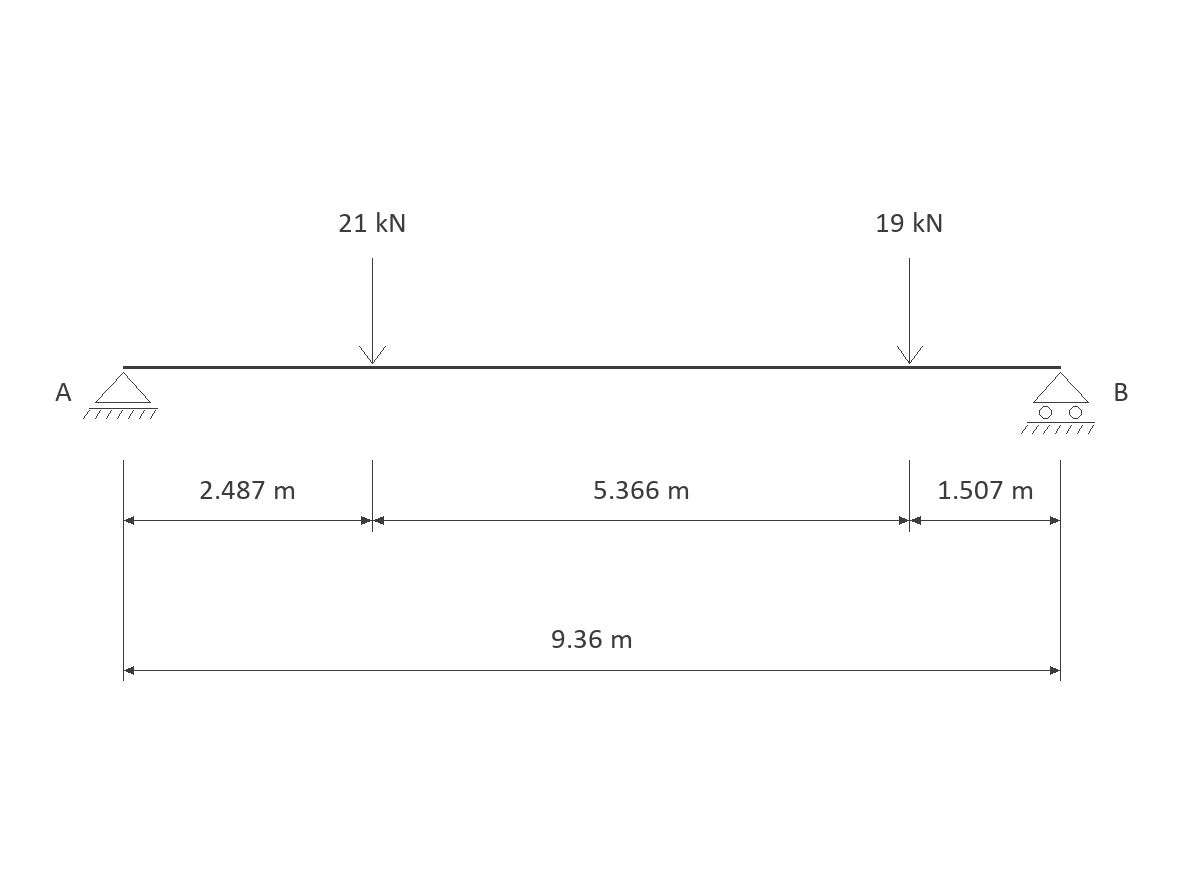pin_support: (83, 372, 158, 419)
point_load: (359, 258, 386, 364), (897, 258, 923, 364)
roller_support: (1021, 372, 1095, 434)
